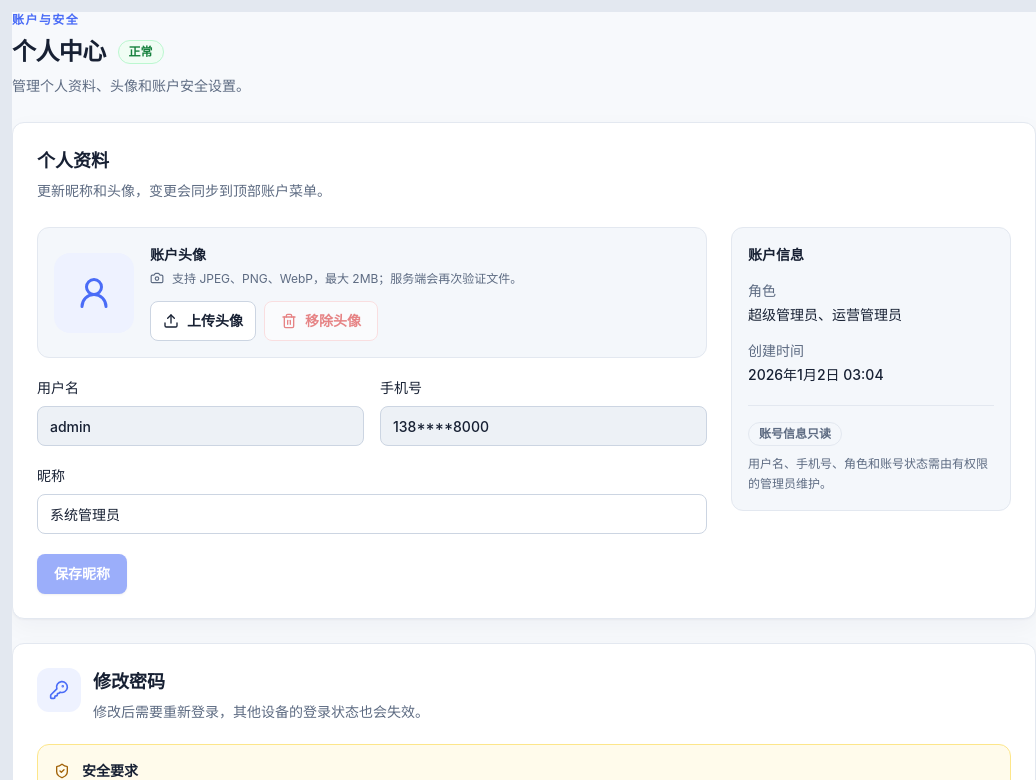
Test: Account › shows read-only account information and only saves a trimmed changed nickname
The width and height of the screenshot is (1036, 780).
Expected: the text "正常" is shown, [118,40,164,64]
Expected: the text "超级管理员、运营管理员" is shown, [748,306,902,323]
Clear the field labelled "昵称" at (372, 514), box [37,494,707,534]
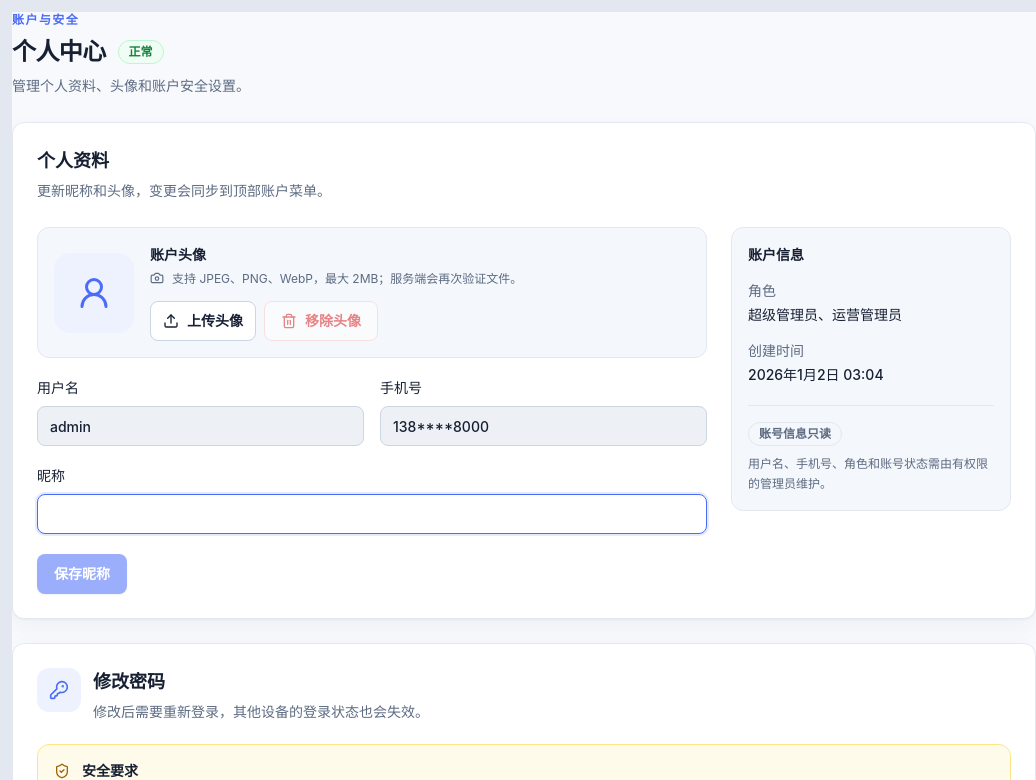
Type "  新昵称  " into the field labelled "昵称".
click(372, 514); type("  新昵称  ")  # box [37,494,707,534]
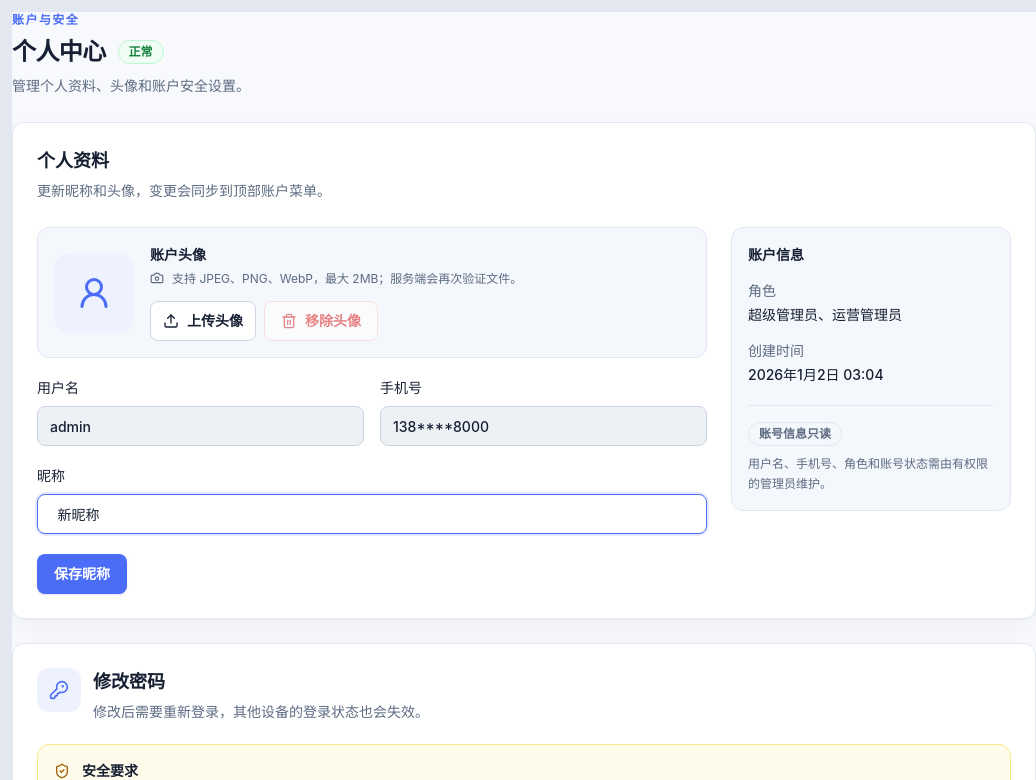
Click the button "保存昵称".
click(82, 574)  # box [37,554,127,594]
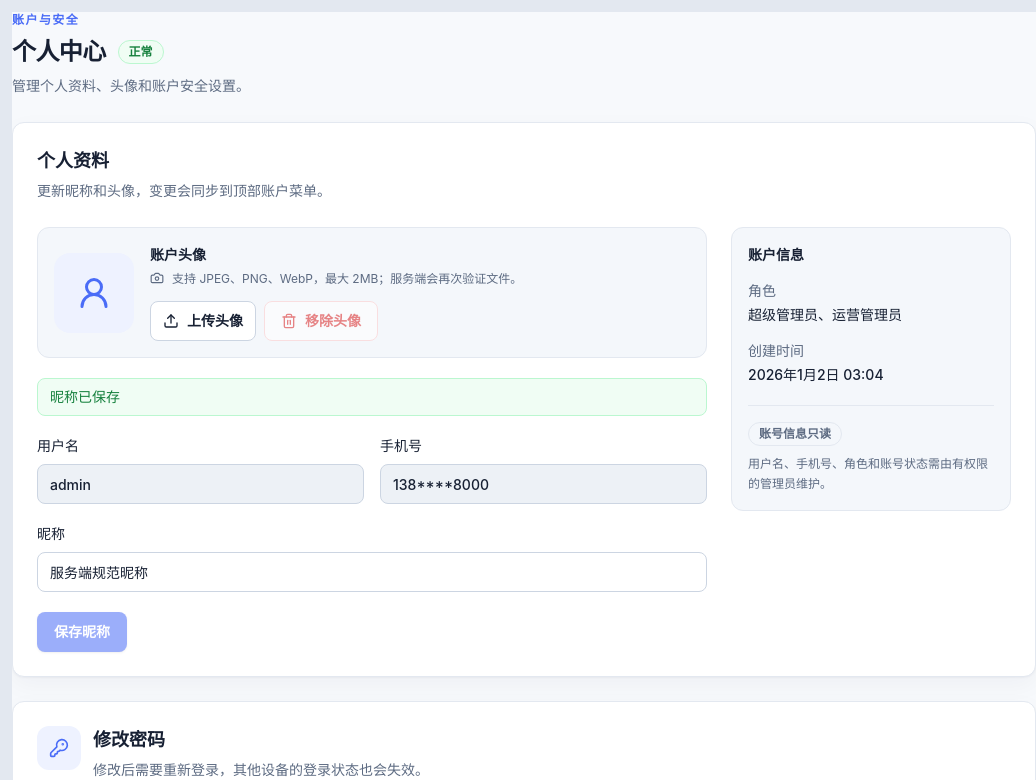
Expected: the field showing "服务端规范昵称" is shown, [37,552,707,592]
Expected: the message reads "昵称已保存", [50,388,120,405]
